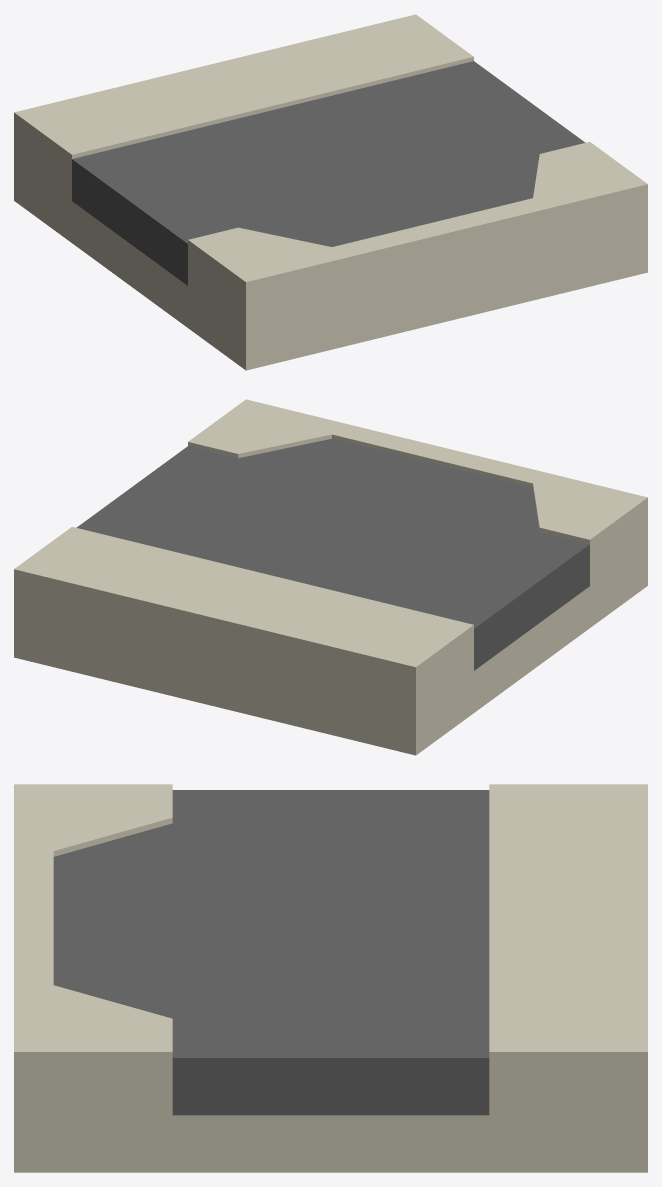
Rendered from tile012.fbx.
3 renders of one model, top to bottom at view 1: azimuth 30°, elevation 25°; view 2: azimuth 150°, elevation 25°; view 3: azimuth 270°, elevation 25°, orthographic. The views are drawn at different scales.
Parts seen in each view (by area): view 1: tile012; view 2: tile012; view 3: tile012.
Boxes of the visible parts, left/top/right/bottom form: tile012: left=14, top=14, right=647, bottom=370; tile012: left=14, top=399, right=647, bottom=755; tile012: left=14, top=784, right=647, bottom=1172.
Bounding box in the file's own units: 10 × 2.1 × 10.
